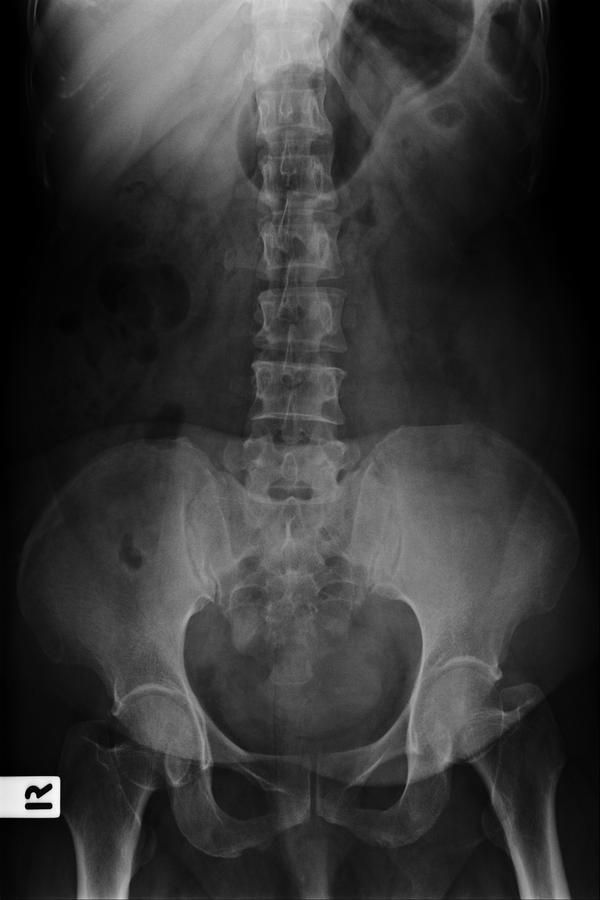not lumbar scoliosis: (240, 199, 359, 516)
